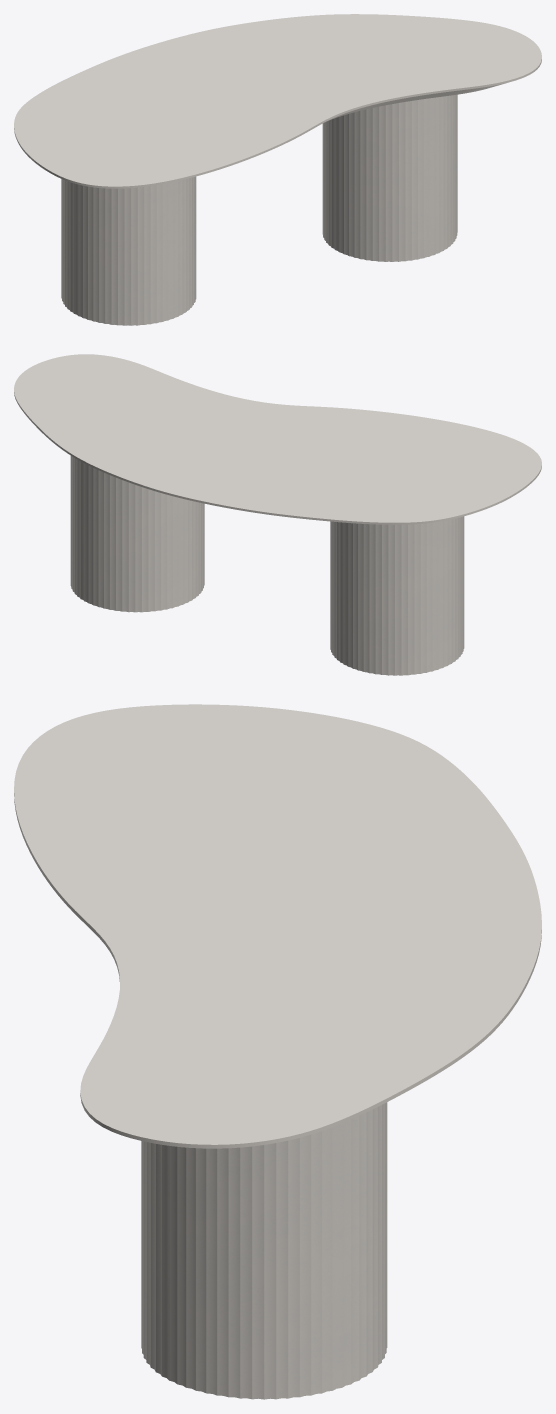
The model's file is purewhite_leaf1_facet_ripplesecond.glb.
3 renders of one model, top to bottom at view 1: azimuth 30°, elevation 25°; view 2: azimuth 150°, elevation 25°; view 3: azimuth 270°, elevation 25°, orthographic. The views are drawn at different scales.
Visible parts, largest first — view 1: facet_leaf1, ripplesecond; view 2: facet_leaf1, ripplesecond; view 3: facet_leaf1, ripplesecond.
Boxes of the visible parts, box(x1,y1,x2,y2) form: facet_leaf1: box(14, 14, 541, 188); ripplesecond: box(61, 94, 457, 325); facet_leaf1: box(14, 354, 541, 524); ripplesecond: box(70, 456, 464, 675); facet_leaf1: box(14, 704, 541, 1148); ripplesecond: box(141, 1102, 387, 1399).
Size of the model in its own units: 7.5 by 2.5 by 3.8.
1 material, 1 textured.
